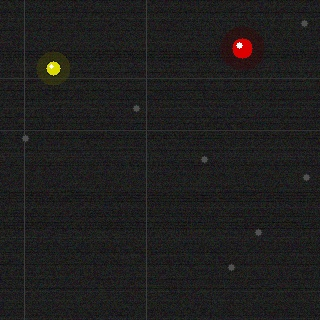red_fault: (230, 36, 254, 60)
yellow_warning: (44, 59, 62, 77)
